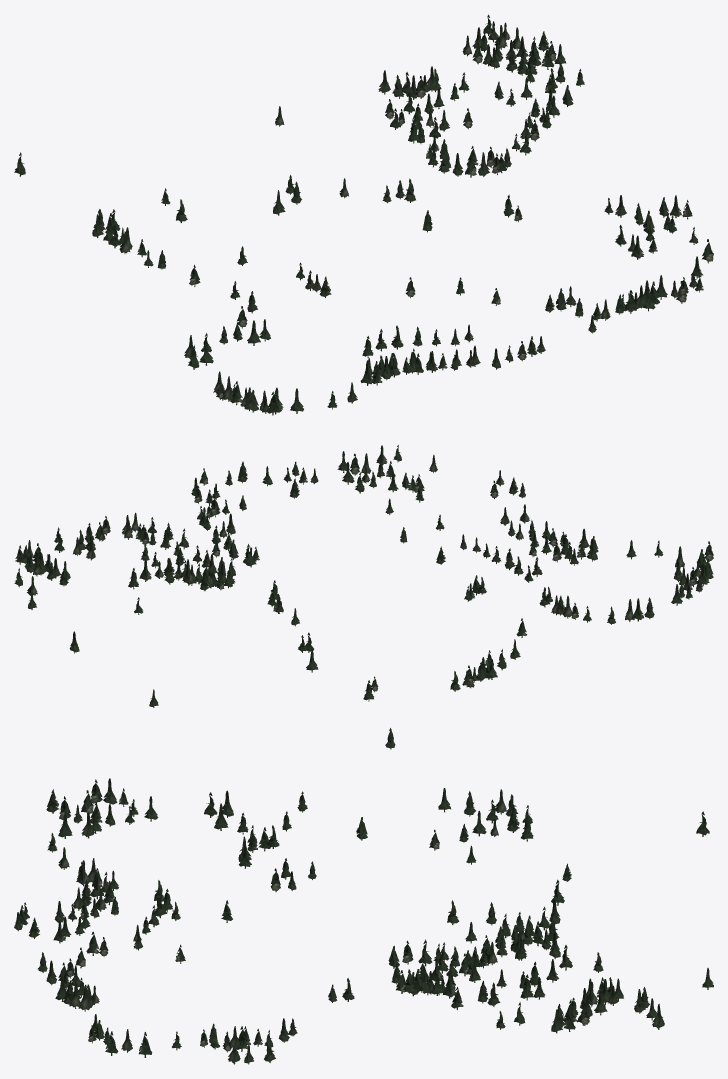
File: Pinares_LOD2.glb
The picture shows the model from 3 angles, top to bottom: view 1: azimuth 30°, elevation 25°; view 2: azimuth 150°, elevation 25°; view 3: azimuth 270°, elevation 25°; orthographic projection. The views are drawn at different scales.
Size of the model in its own units: 324 by 58.62 by 334.
